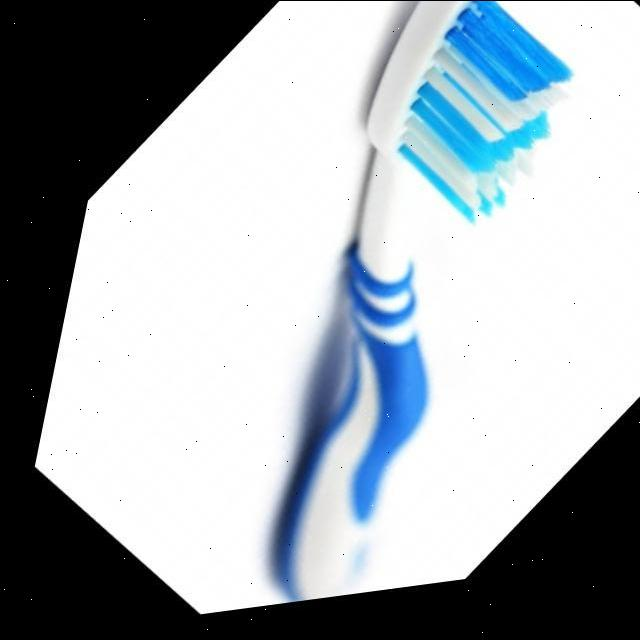toothbrush: (276, 0, 548, 609)
